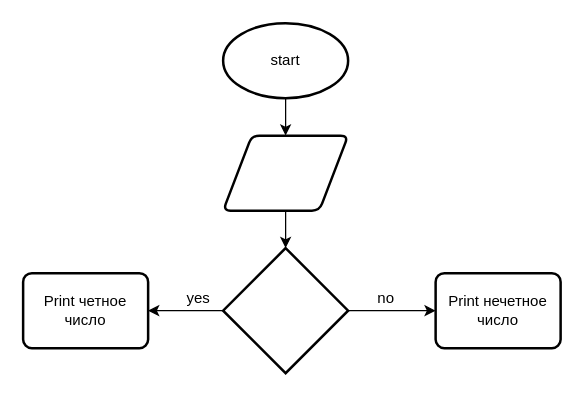
Image size: 583x395. Some labels were removed from this diagram. Here are the shapes that lost their labels. From the top down, the box of each, then its label:
(221, 134, 349, 211): numA
(221, 246, 349, 374): numA%2==0
